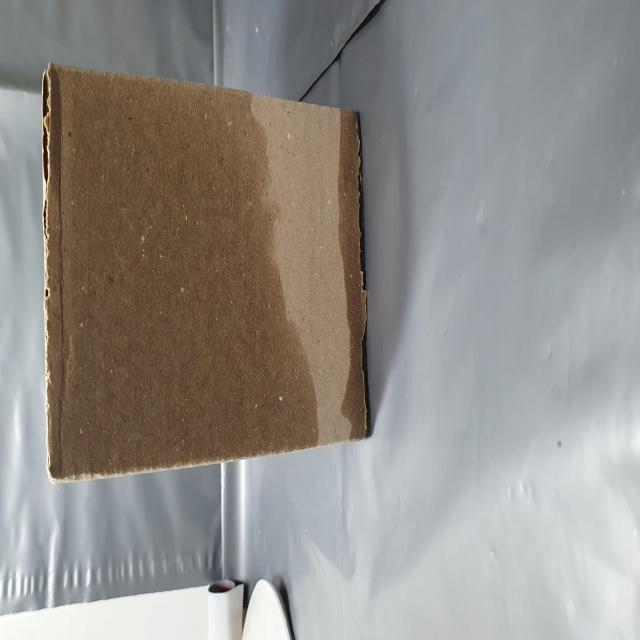wet: (94, 77, 308, 640)
